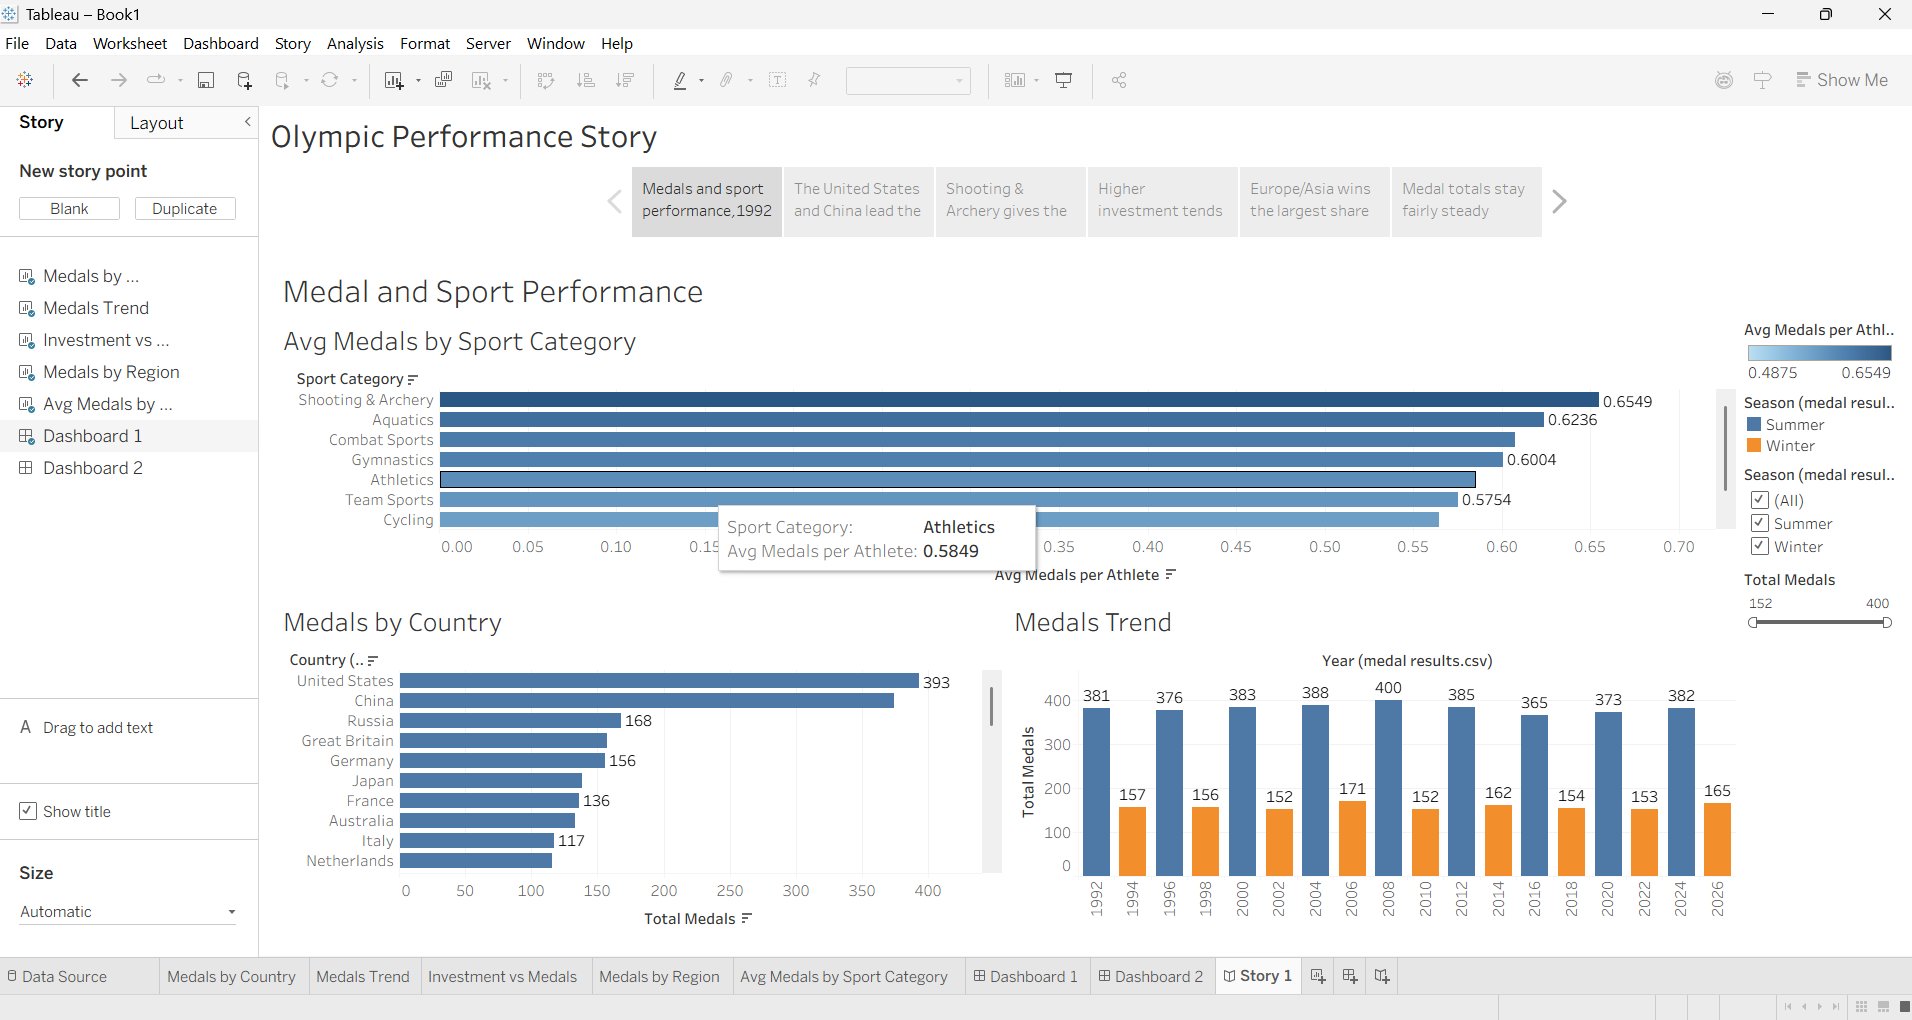

Layout of this report page (visuals, bound fields, positions):
{"tool":"tableau","page":{"name":"Dashboard 1","canvas":[1000,1000],"units":"permille","ordinal":0},"visuals":[{"type":"title","box":[4.8,9.4,990.3,58.8]},{"type":"worksheet","title":"Avg Medals by Sport Category","mark":"Automatic","rows":["Sport_Category"],"cols":["Calculation_1251579391488000"],"box":[4.8,68.2,893.8,415.3]},{"type":"legend","title":"Avg Medals by Sport Category","param":"[federated.0vy7wdc0vdcy6k16jlxny1f0dmuw].[usr:Calculation_1251579391488000:qk]","box":[898.6,68.2,96.6,85.9]},{"type":"legend","title":"Medals Trend","param":"[federated.0vy7wdc0vdcy6k16jlxny1f0dmuw].[none:Season (medal_results.csv):nk]","box":[898.6,154.1,96.6,84.7]},{"type":"filter","title":"Medals Trend","param":"[federated.0vy7wdc0vdcy6k16jlxny1f0dmuw].[none:Season (medal_results.csv):nk]","box":[898.6,238.8,96.6,123.5]},{"type":"filter","title":"Medals Trend","param":"[federated.0vy7wdc0vdcy6k16jlxny1f0dmuw].[sum:Total_Medals:qk]","box":[898.6,362.3,96.6,85.9]},{"type":"worksheet","title":"Medals by Country","mark":"Automatic","rows":["Country (medal_results.csv)"],"cols":["Total_Medals"],"box":[4.8,483.5,446,507.1]},{"type":"worksheet","title":"Medals Trend","mark":"Automatic","rows":["Total_Medals"],"cols":["Year (medal_results.csv)"],"box":[450.8,483.5,447.8,507.1]}]}

Visuals, with their boxes on the dashboard's canvas, which has no fixed pixel size, in thousandths of its width and height (x1, y1, x2, y2). These are canvas units, not pixel positions in the 1912x1020 screenshot, which may show the page scaled, cropped or inside an application window:
title: 5 9 995 68
"Avg Medals by Sport Category" worksheet: 5 68 899 484
"Avg Medals by Sport Category" legend: 899 68 995 154
"Medals Trend" legend: 899 154 995 239
"Medals Trend" filter: 899 239 995 362
"Medals Trend" filter: 899 362 995 448
"Medals by Country" worksheet: 5 484 451 991
"Medals Trend" worksheet: 451 484 899 991
